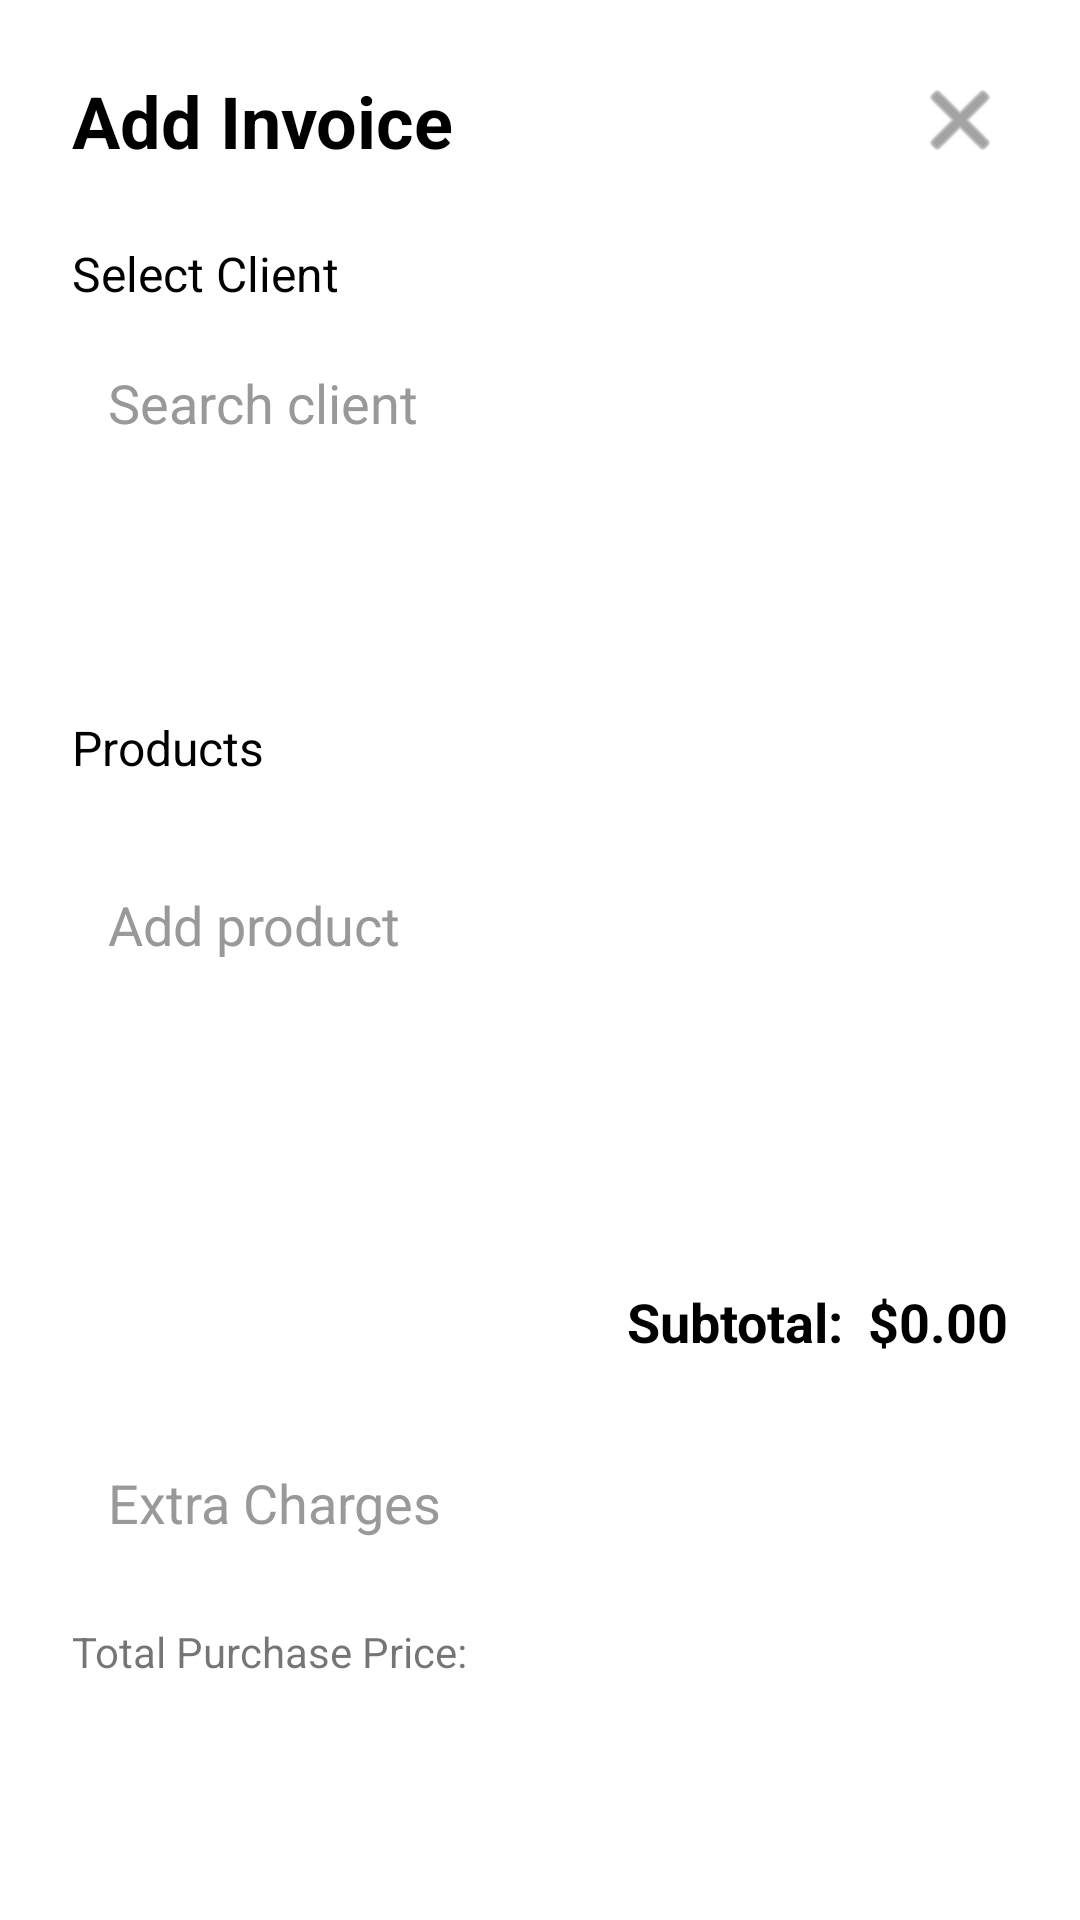

Named icons in this screenshot (1080x1920) and their bounding boxes, bbox=(x1, y1, x2, y2):
Close: bbox=(930, 90, 990, 150)
